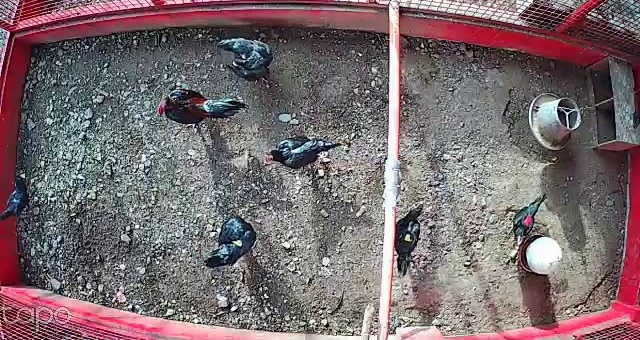Chicken: (265, 130, 344, 172), (214, 36, 280, 86), (205, 211, 256, 271), (394, 204, 426, 277), (508, 193, 547, 250), (0, 169, 35, 228)
Rooster: (152, 84, 245, 135)
Saddle_Color_Blue: (12, 197, 19, 205)
Saddle_Color_Red: (524, 215, 533, 226)
Saddle_Color_Yellow: (401, 233, 414, 242)
